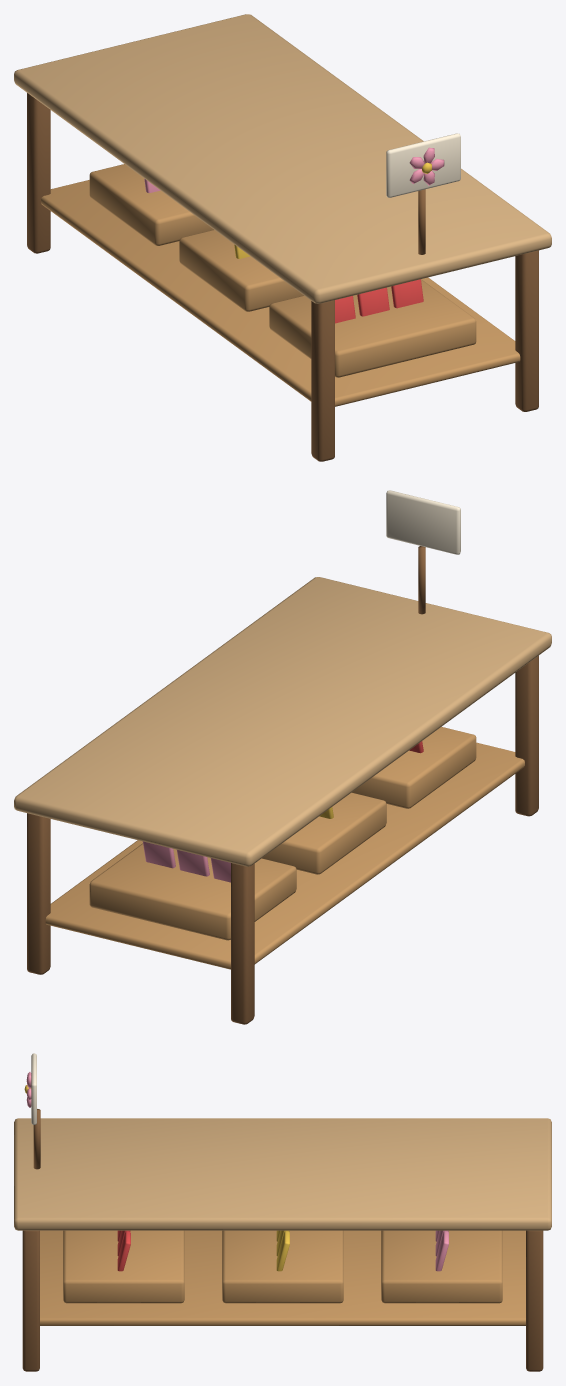
File: seed-shelf.glb
3 views of the same model, one above another, from view 1: azimuth 30°, elevation 25°; view 2: azimuth 150°, elevation 25°; view 3: azimuth 270°, elevation 25° (orthographic). The views are drawn at different scales.
Parts seen in each view (by area): view 1: shelf, sign; view 2: shelf, sign; view 3: shelf, sign.
Part boxes in pixels (left/top/right/bottom): shelf: left=14, top=14, right=551, bottom=461; sign: left=386, top=133, right=460, bottom=254; shelf: left=14, top=577, right=551, bottom=1024; sign: left=386, top=490, right=460, bottom=614; shelf: left=14, top=1118, right=551, bottom=1371; sign: left=24, top=1053, right=40, bottom=1169.
Bounding box in the file's own units: 0.84 × 0.98 × 1.86.
